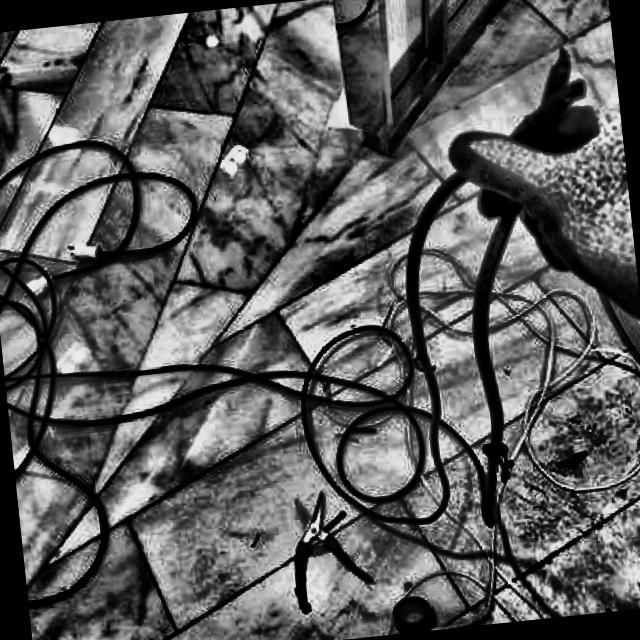Cable: (0, 97, 536, 610), (330, 232, 640, 636)
